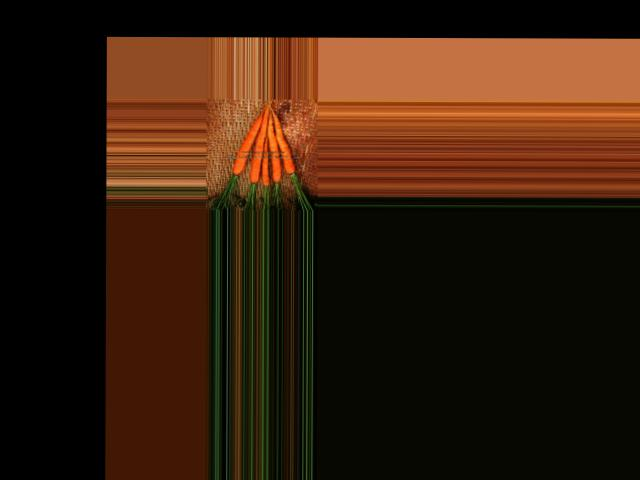carrot: (272, 114, 296, 174)
